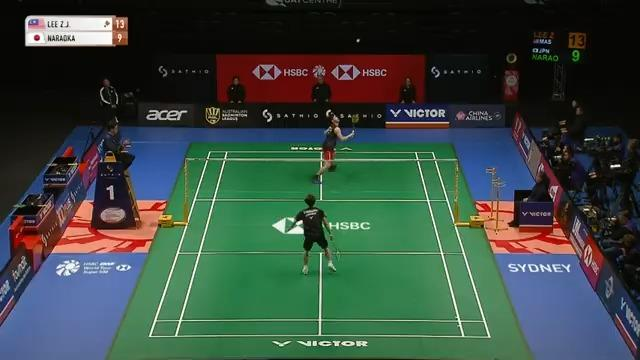Shuttlecock: (353, 34, 363, 44)
